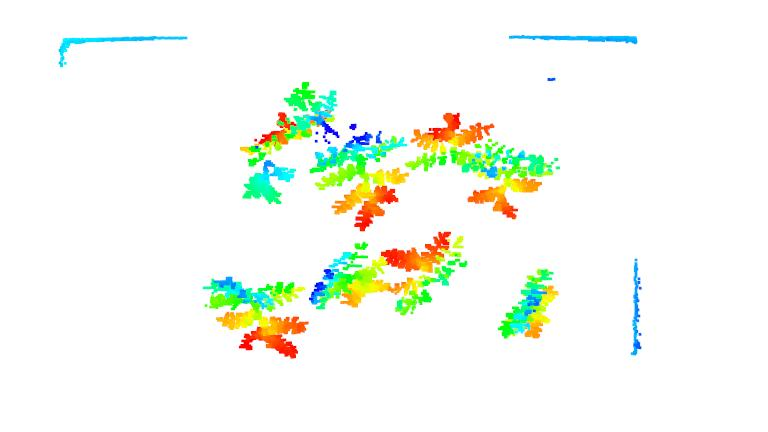chickpea: (237, 80, 339, 203), (311, 131, 409, 232), (201, 274, 305, 360), (381, 226, 468, 317), (464, 142, 560, 219), (307, 241, 390, 314), (407, 112, 500, 173), (496, 269, 562, 339)
